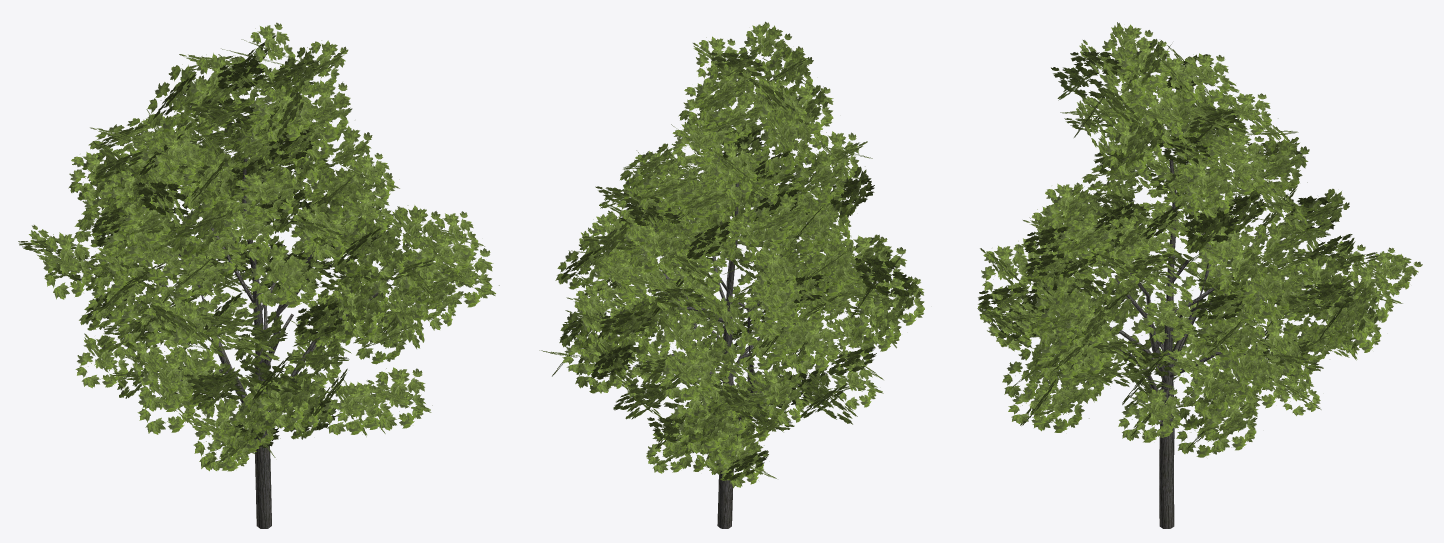
Rendered from sugar_maple_1.obj.
The picture shows the model from 3 angles, left to right: view 1: azimuth 30°, elevation 25°; view 2: azimuth 150°, elevation 25°; view 3: azimuth 270°, elevation 25°; orthographic projection. The views are drawn at different scales.
Parts seen in each view (by area): view 1: Leaves, Trunk, Branches; view 2: Leaves, Trunk, Branches; view 3: Leaves, Trunk, Branches.
Part boxes in pixels (x1,y1,x2,y2): Leaves: (18,22,499,471); Trunk: (242,157,271,528); Branches: (159,226,378,412); Leaves: (539,21,924,487); Trunk: (717,183,738,528); Branches: (647,255,794,420); Leaves: (977,22,1422,457); Trunk: (1159,160,1176,528); Branches: (1110,221,1245,424).
Size of the model in its own units: 18.55 by 26.15 by 22.79.
Materials: 2 (2 with a texture image).
